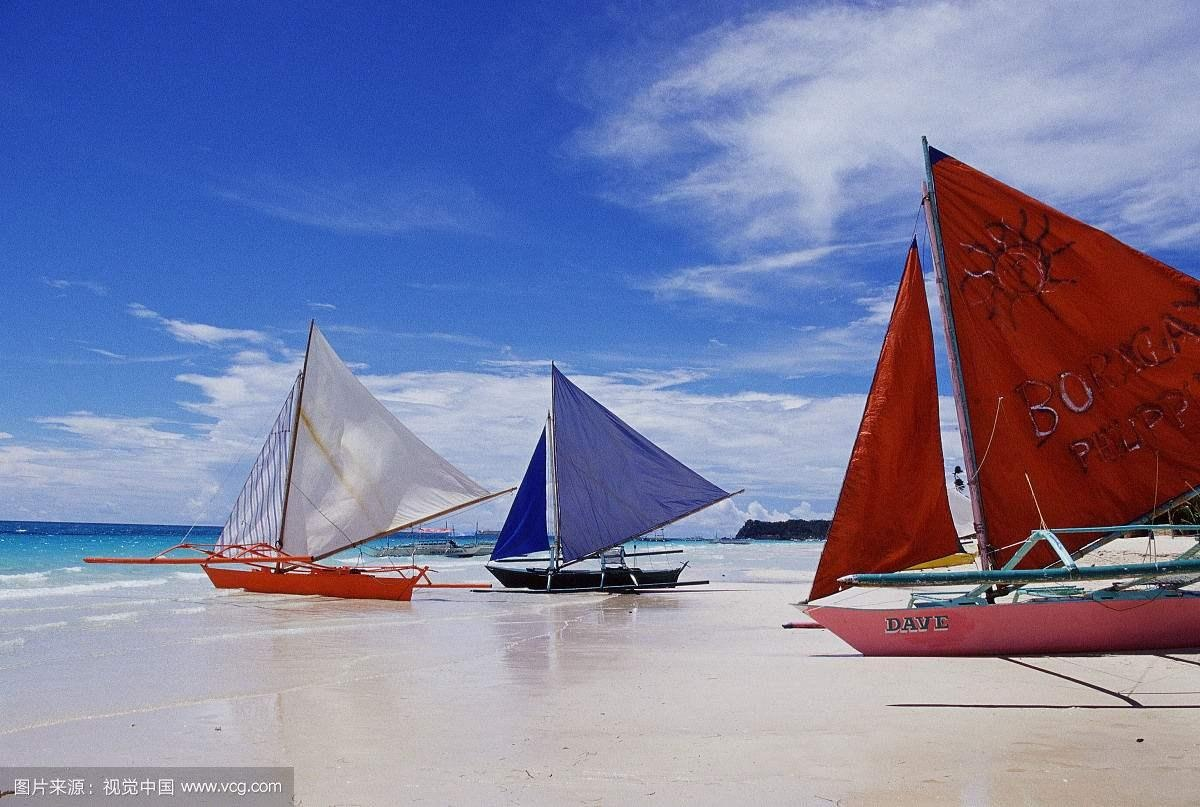fanchuan: (790, 132, 1200, 657), (190, 303, 505, 607), (491, 358, 744, 595)
